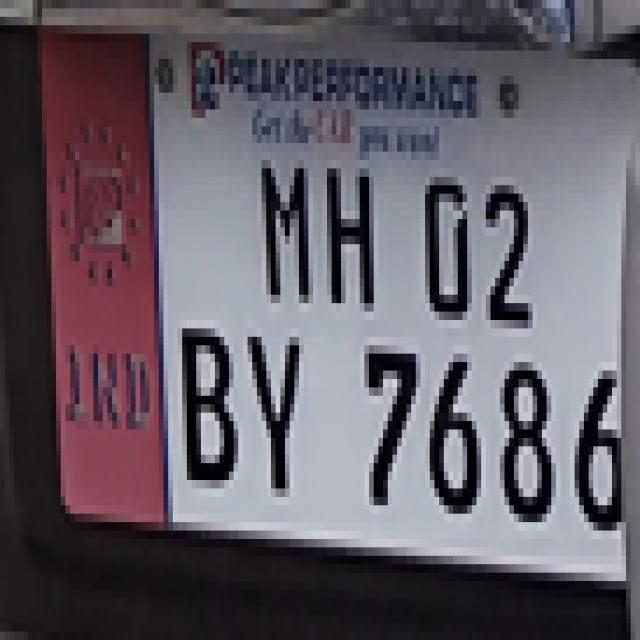0: (411, 162, 474, 326)
6: (567, 368, 629, 535), (428, 354, 483, 528)
7: (358, 336, 423, 528)
8: (494, 343, 562, 538)
B: (178, 314, 250, 504)
H: (323, 157, 382, 330)
M: (253, 148, 316, 316)
Y: (242, 324, 311, 506)
